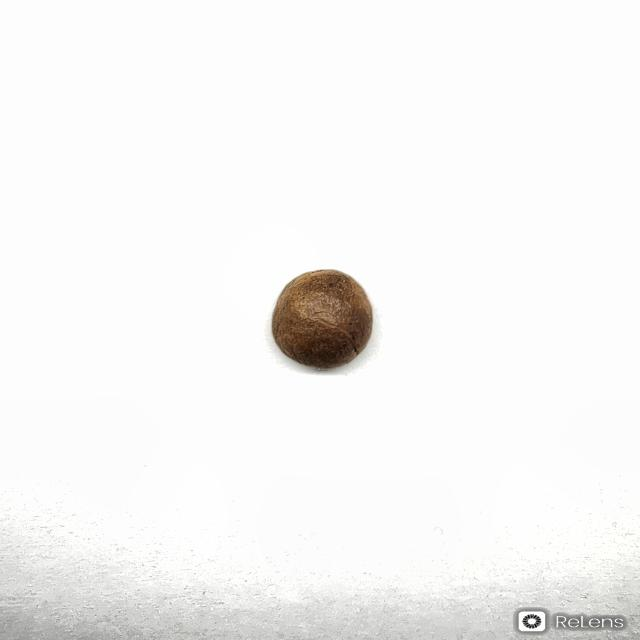Good bean: (270, 268, 374, 371)
